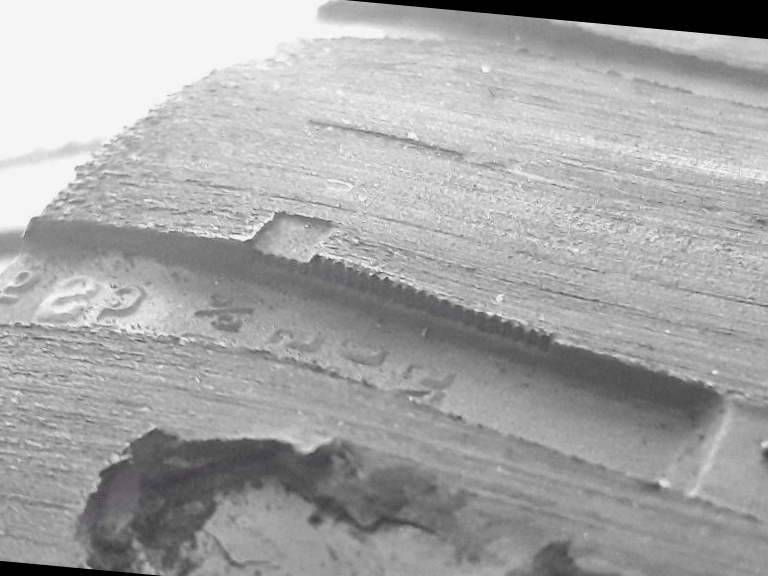temoin:0: (233, 200, 372, 312)
